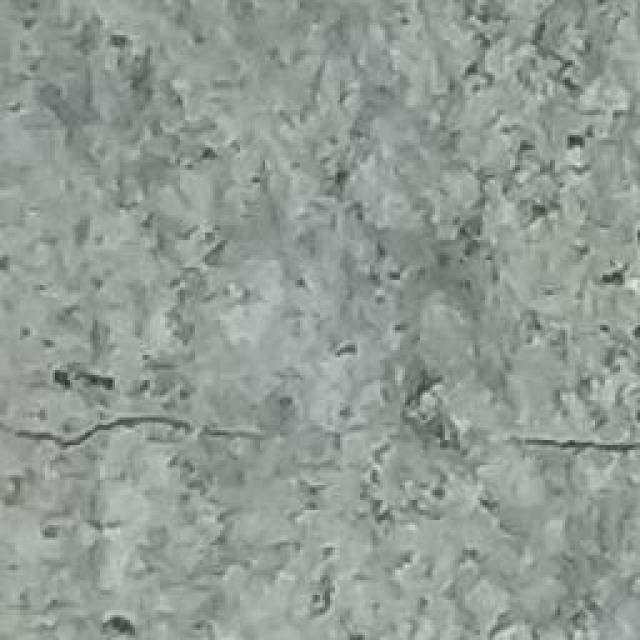Transverse: (0, 392, 640, 482)
